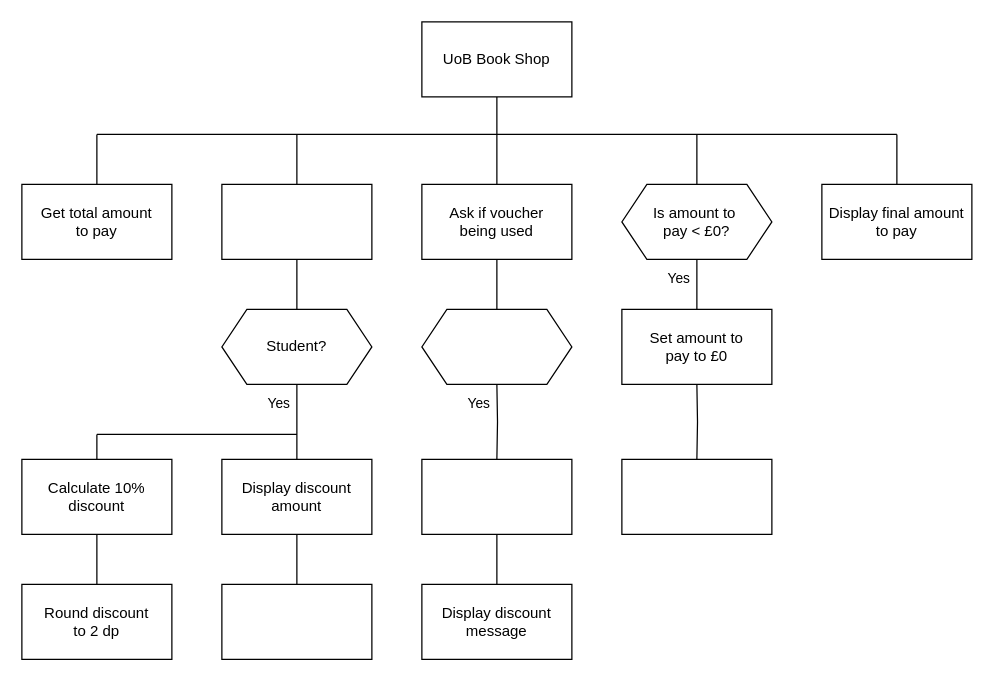
Some shapes in this 994 by 681 pixel diagram are drawn without their labels. The shapes that lost their labels are listed below. From the top down, each one's centre as x and y in pixels, then its label:
[296,221]: Ask if student
[496,346]: Voucher?
[496,496]: Reduce amount to pay by £10
[696,496]: Display no change given message
[296,621]: Display updated amount to pay
